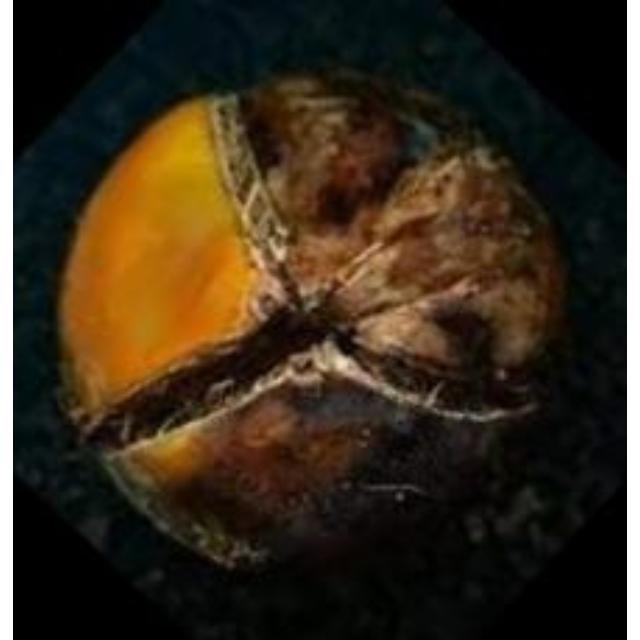damaged: (58, 73, 566, 570)
